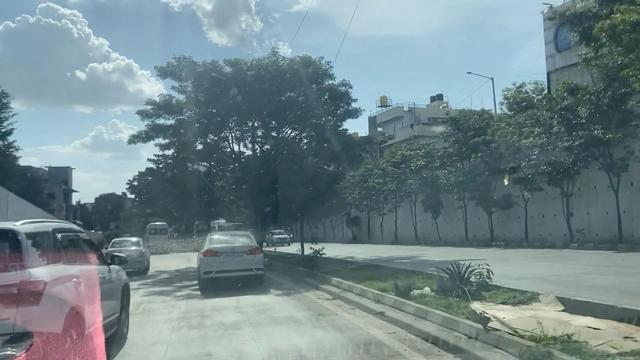LMV: (0, 221, 95, 360), (201, 232, 268, 283), (112, 237, 145, 268)
